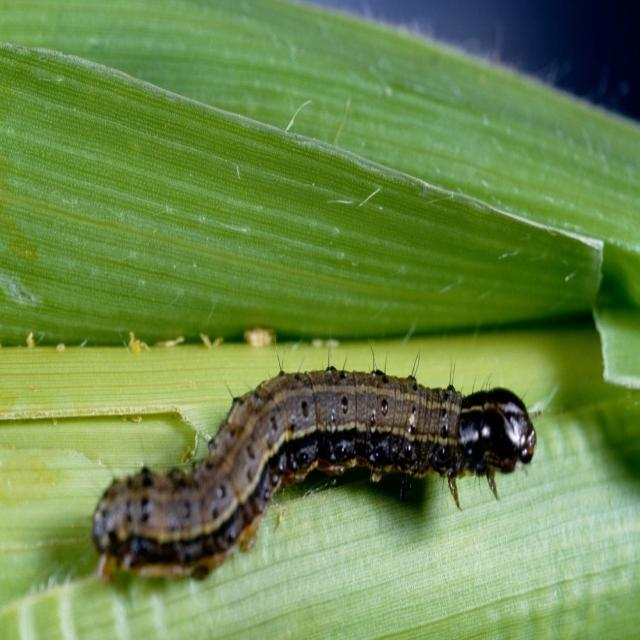armyworm: (73, 303, 550, 606)
